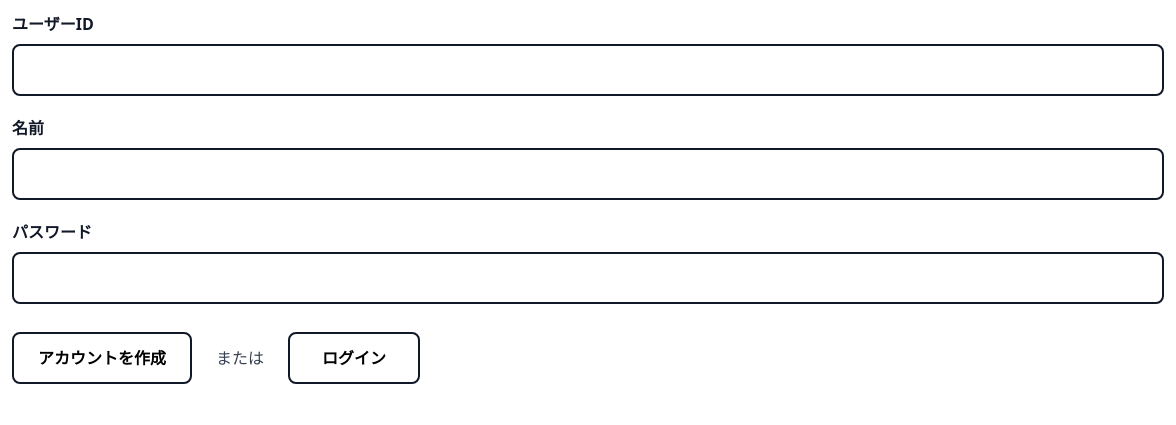
it: CreateAccountForm › 失敗時は欄のエラーと上部の失敗通知を同時に表示し、パスワード以外の入力を保持する
Type "ab" into the field labelled "ユーザーID" at (588, 70), box [12, 44, 1164, 96]
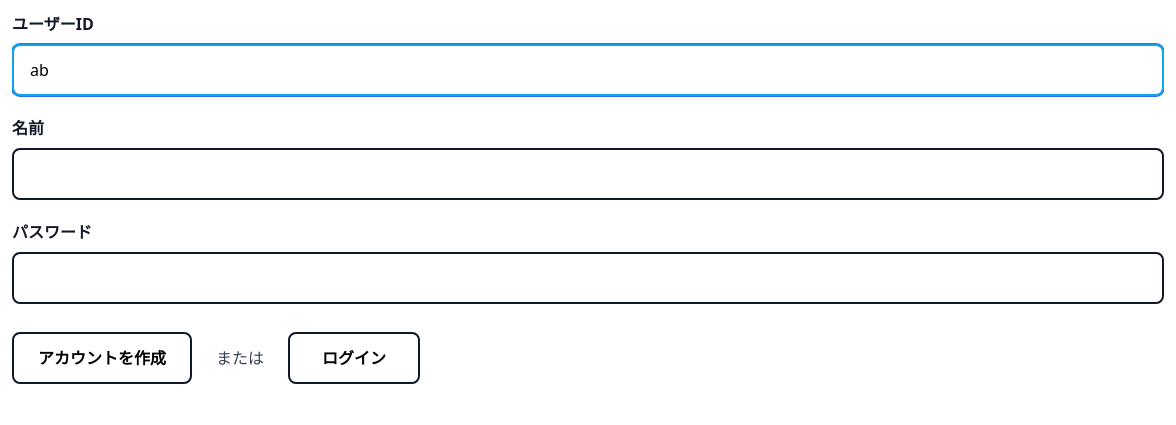
Type "アリス" into the field labelled "名前" at (588, 174), box [12, 148, 1164, 200]
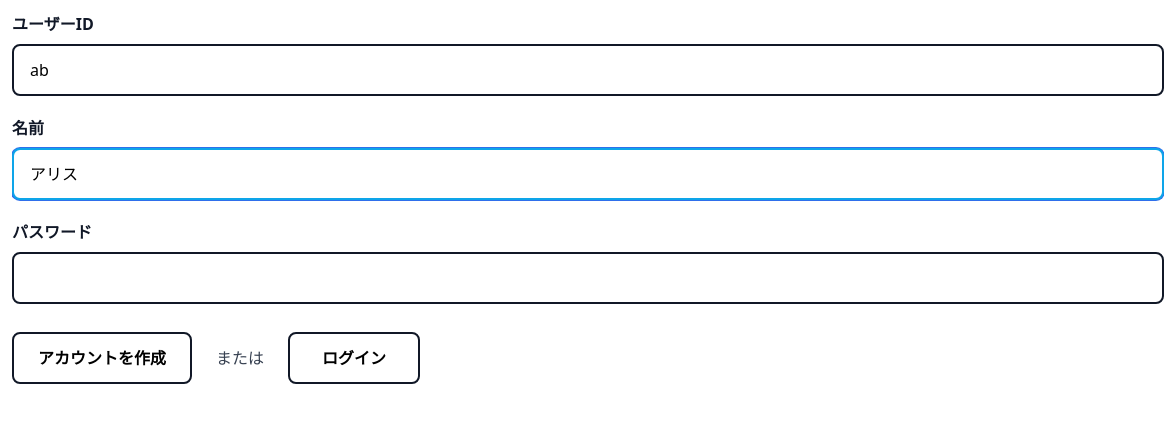
Type "secret-pw" into the password field labelled "パスワード" at (588, 278), box [12, 252, 1164, 304]
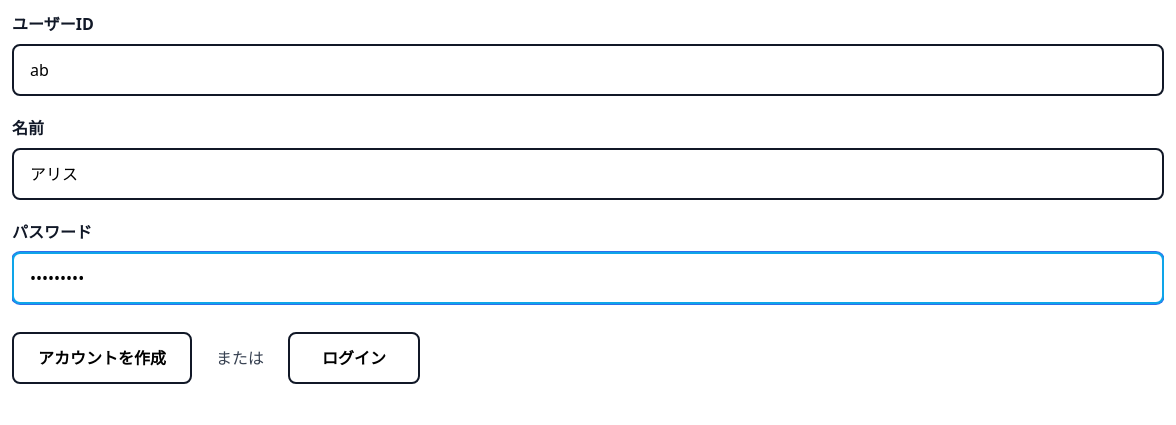
Click the button "アカウントを作成" at (102, 358), box [12, 332, 192, 384]
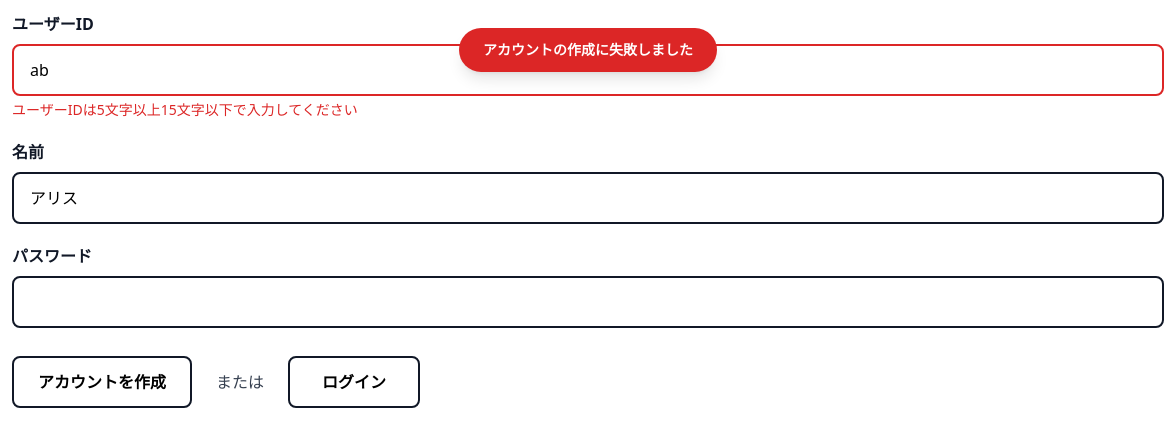
expect the field labelled "ユーザーID" holds "ab": met, box [12, 44, 1164, 96]
expect the list reads "ユーザーIDは5文字以上15文字以下で入力してください": met, box [12, 100, 358, 119]
expect the message reads "アカウントの作成に失敗しました": met, box [483, 40, 693, 59]
